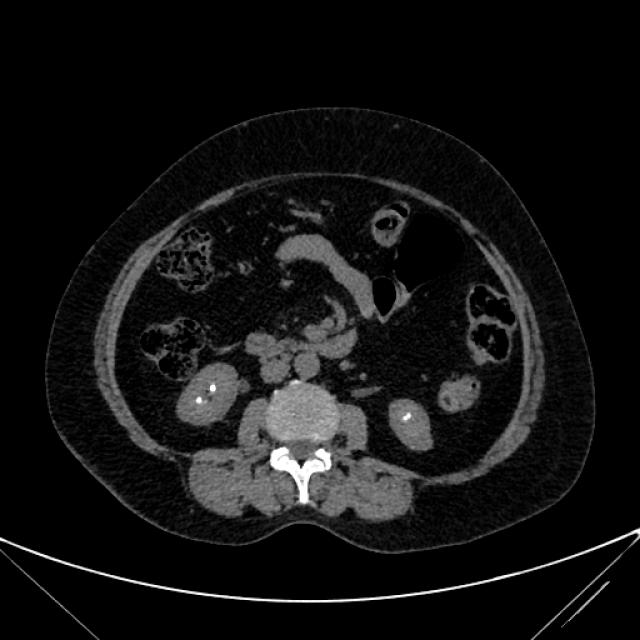kidney: (174, 361, 250, 432), (389, 396, 436, 452)
stone: (401, 410, 414, 422), (209, 382, 218, 393), (196, 394, 203, 405)
